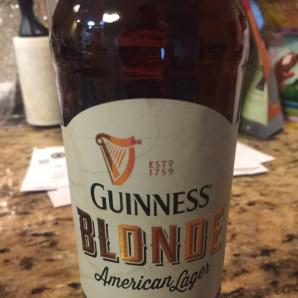beer: (50, 1, 244, 298)
